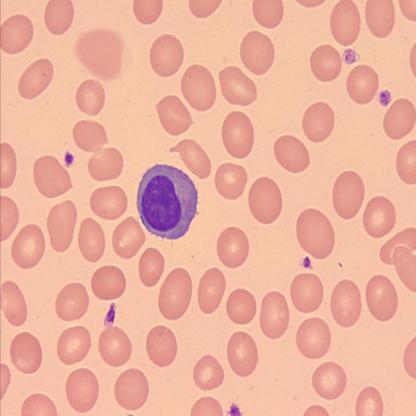Atypical lymphocyte: (138, 163, 200, 241)
